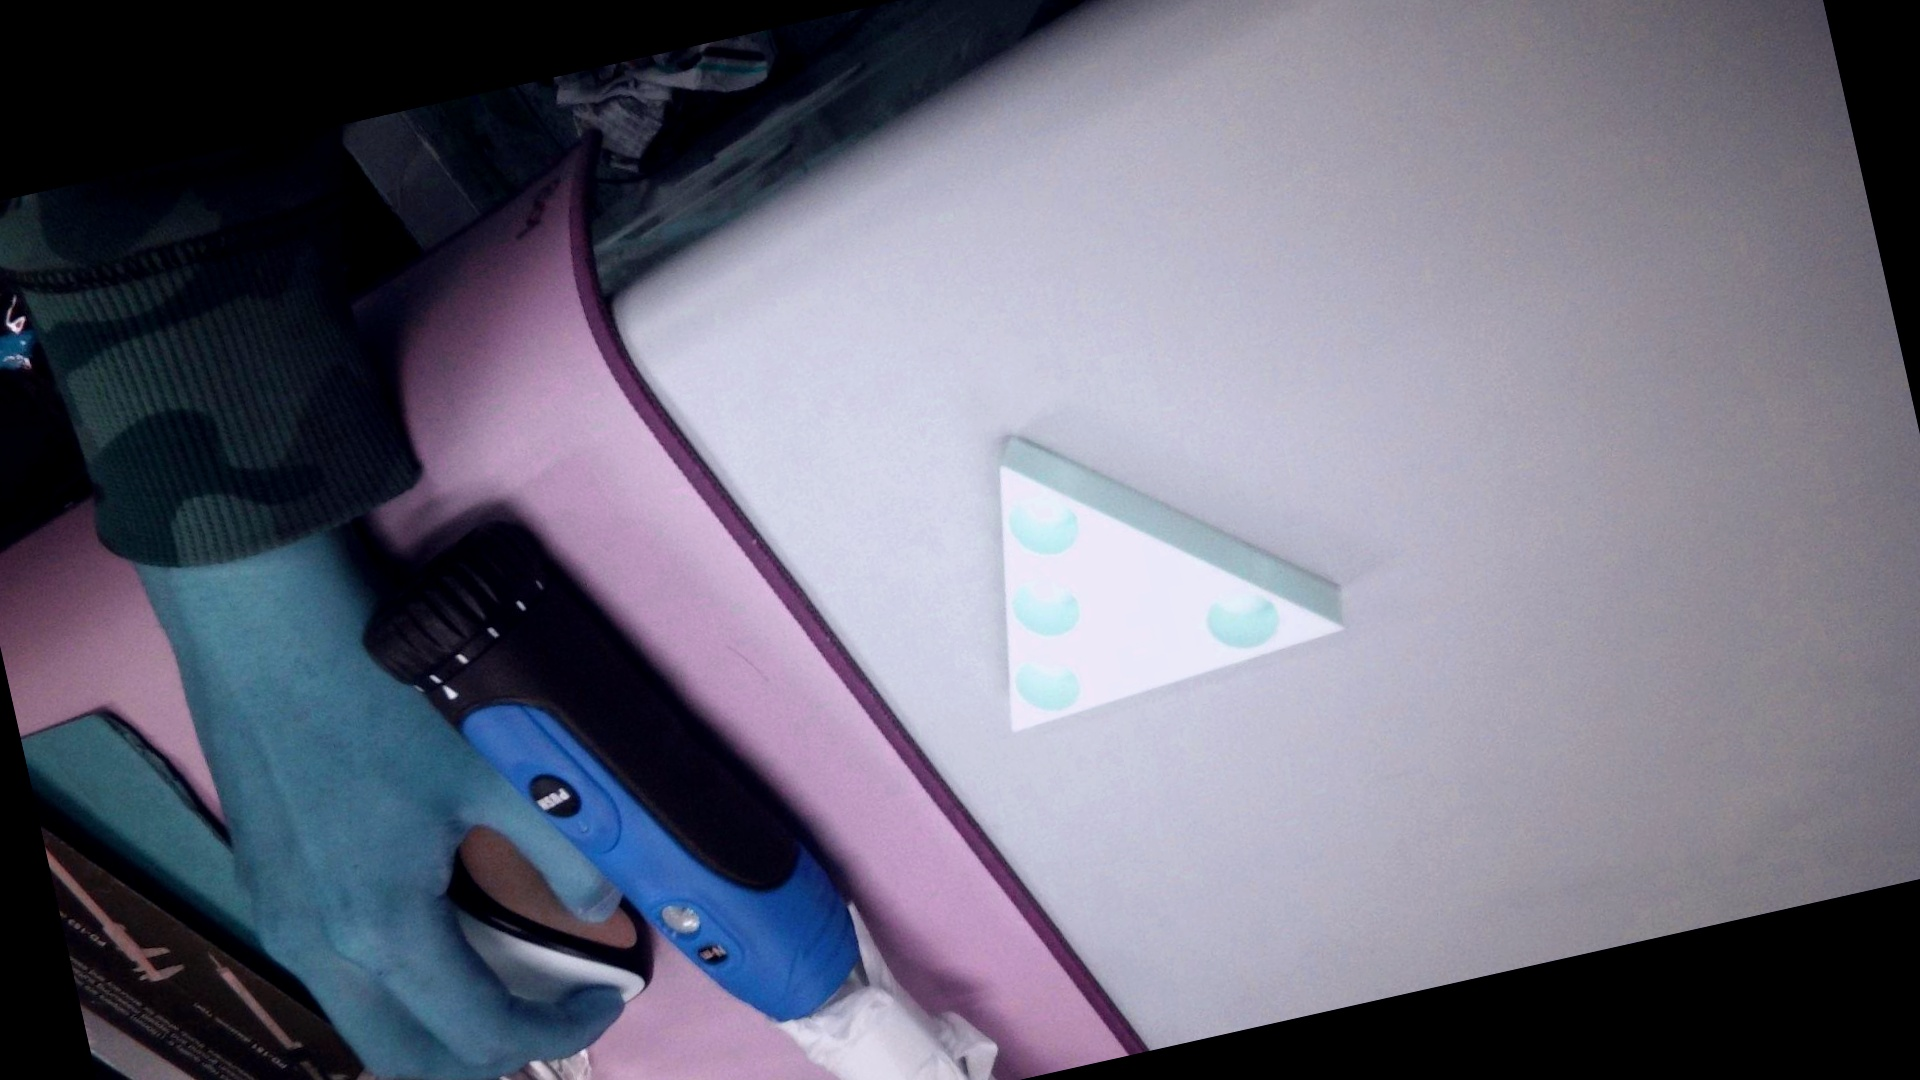hole: (1000, 479, 1089, 566), (1006, 566, 1087, 649), (1203, 582, 1284, 655), (1014, 651, 1080, 717)
obj: (943, 359, 1370, 748)
